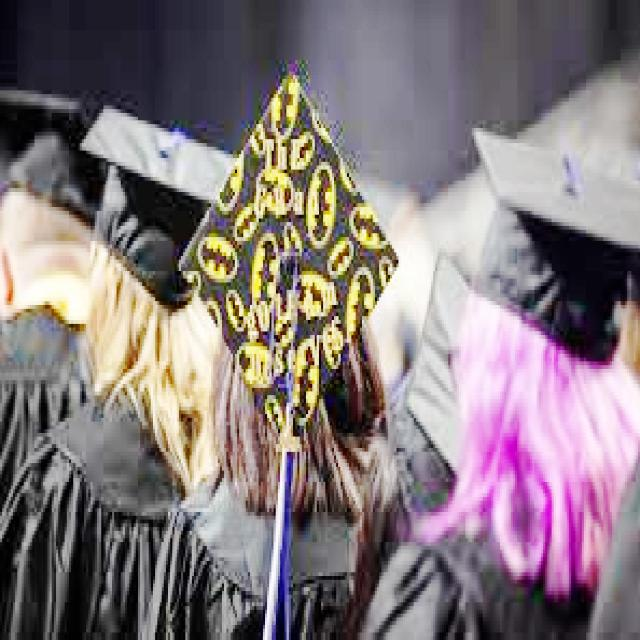TOPI: (173, 60, 405, 456), (390, 222, 478, 497), (465, 117, 638, 256), (75, 94, 242, 215), (0, 75, 114, 237)
